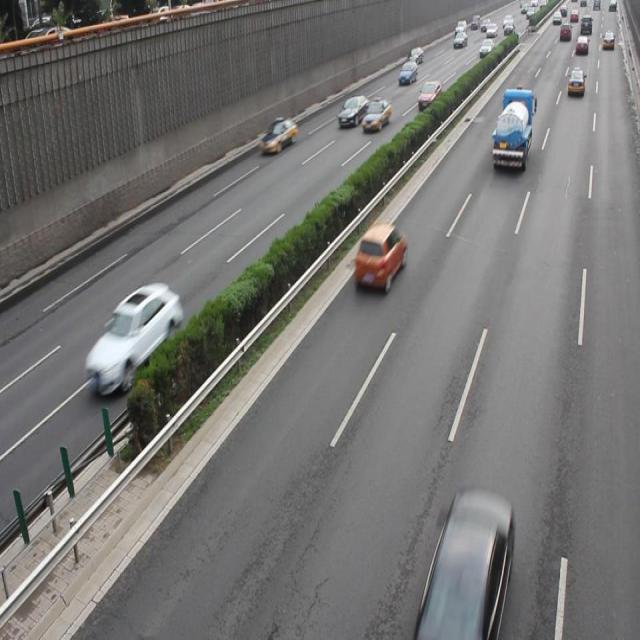bus: (489, 86, 532, 170)
car: (419, 488, 511, 640), (84, 280, 182, 393), (352, 222, 406, 294), (259, 116, 297, 154), (337, 94, 367, 128), (360, 98, 390, 132)
